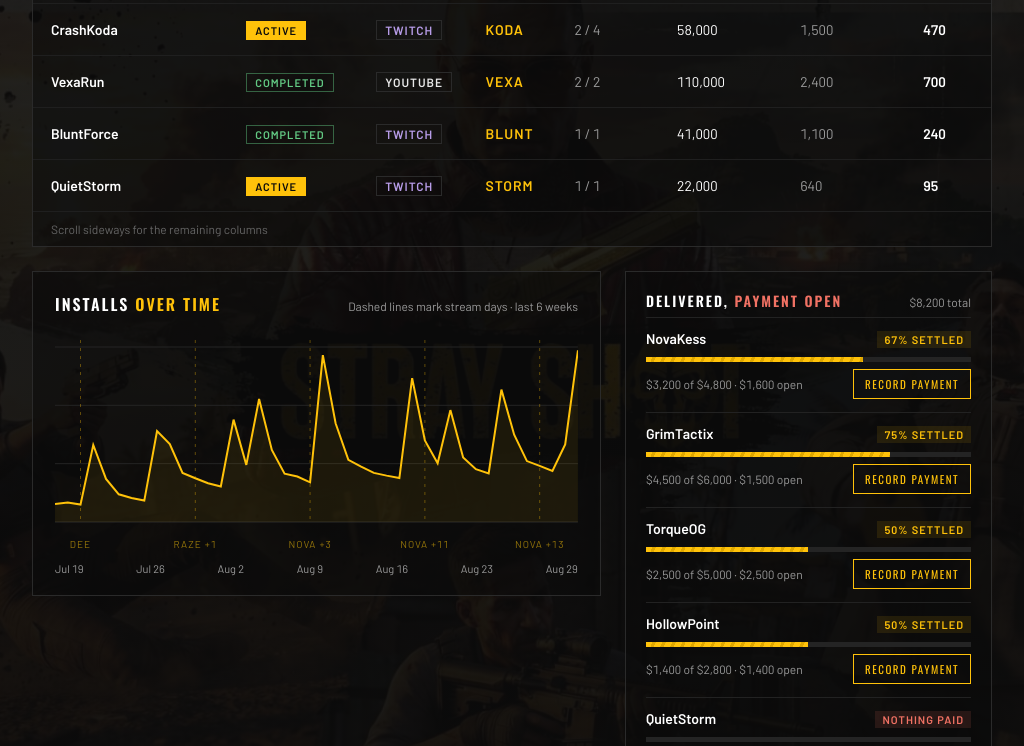
recording a payment › adds the money to every figure on the screen behind it
(page scrolled)
Step 1. Click the button "Record payment" in the row of "$1,600" → [912, 384], box x1=853 y1=369 x2=971 y2=399
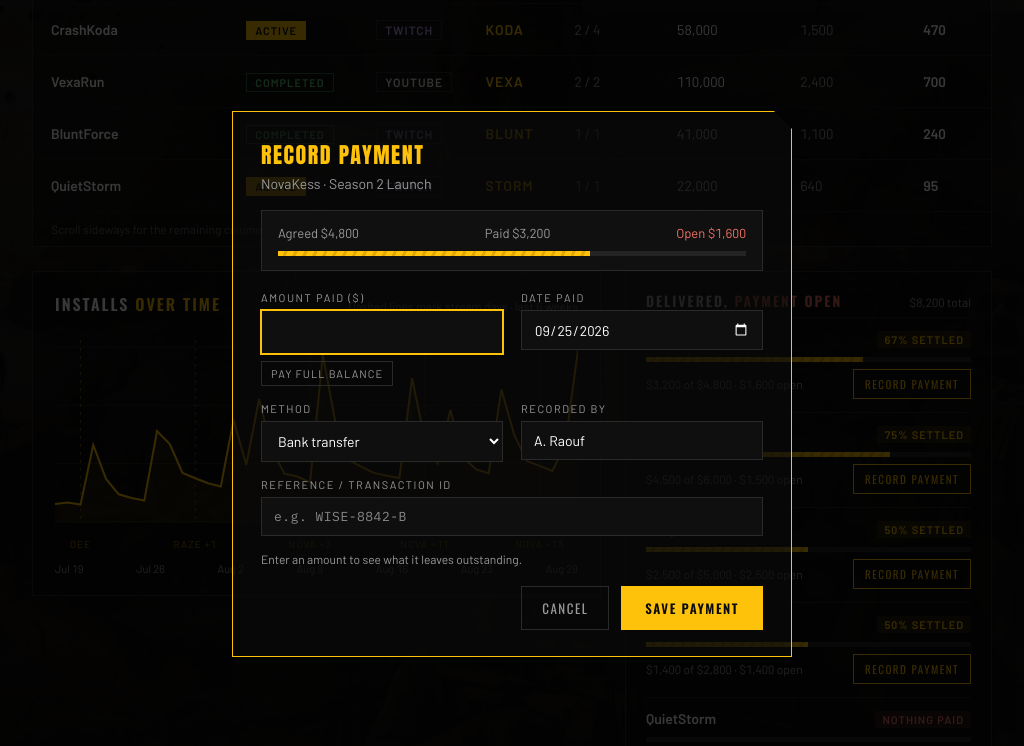
Step 2. Type "1500" into the field named "Amount paid in dollars" → [382, 332], box x1=261 y1=310 x2=503 y2=354
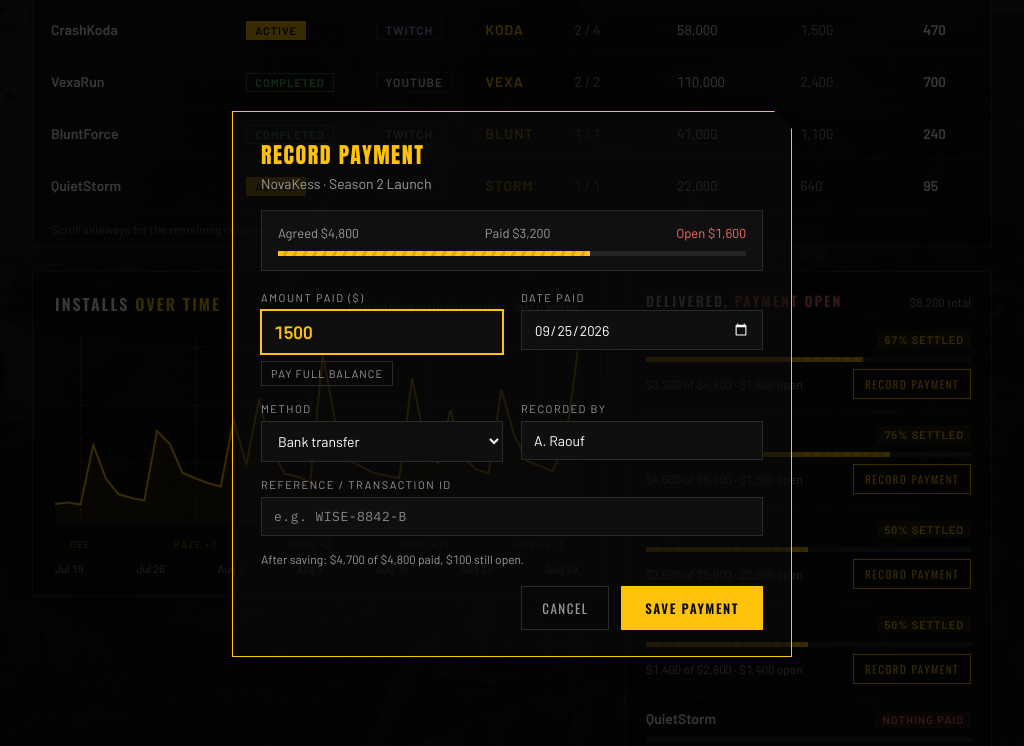
Step 3. Click the button "Save payment" → [692, 608], box x1=621 y1=586 x2=763 y2=630
(page scrolled)
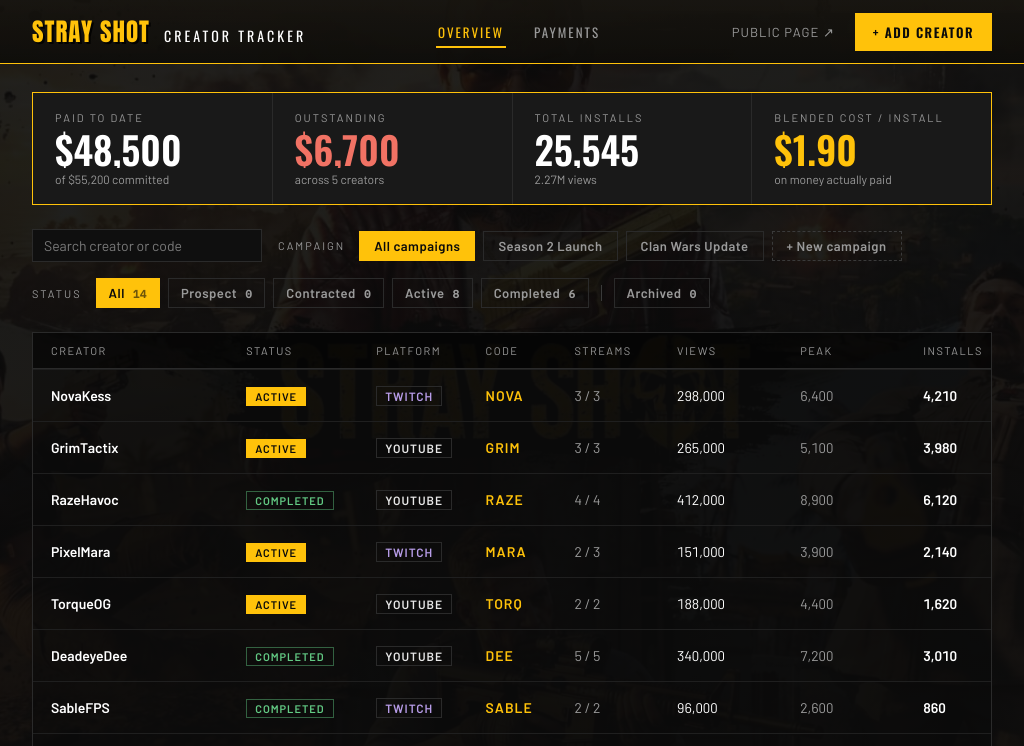
Expected: the dialog is gone
Expected: the text "$48,500" is shown, x1=55 y1=121 x2=182 y2=177
